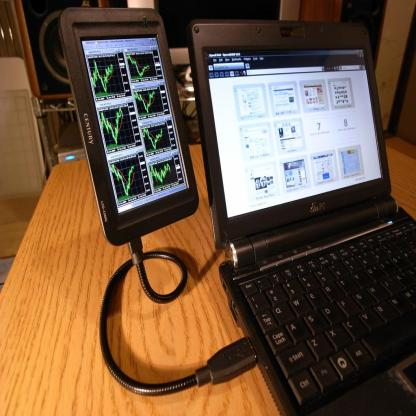board: (190, 20, 416, 416)
